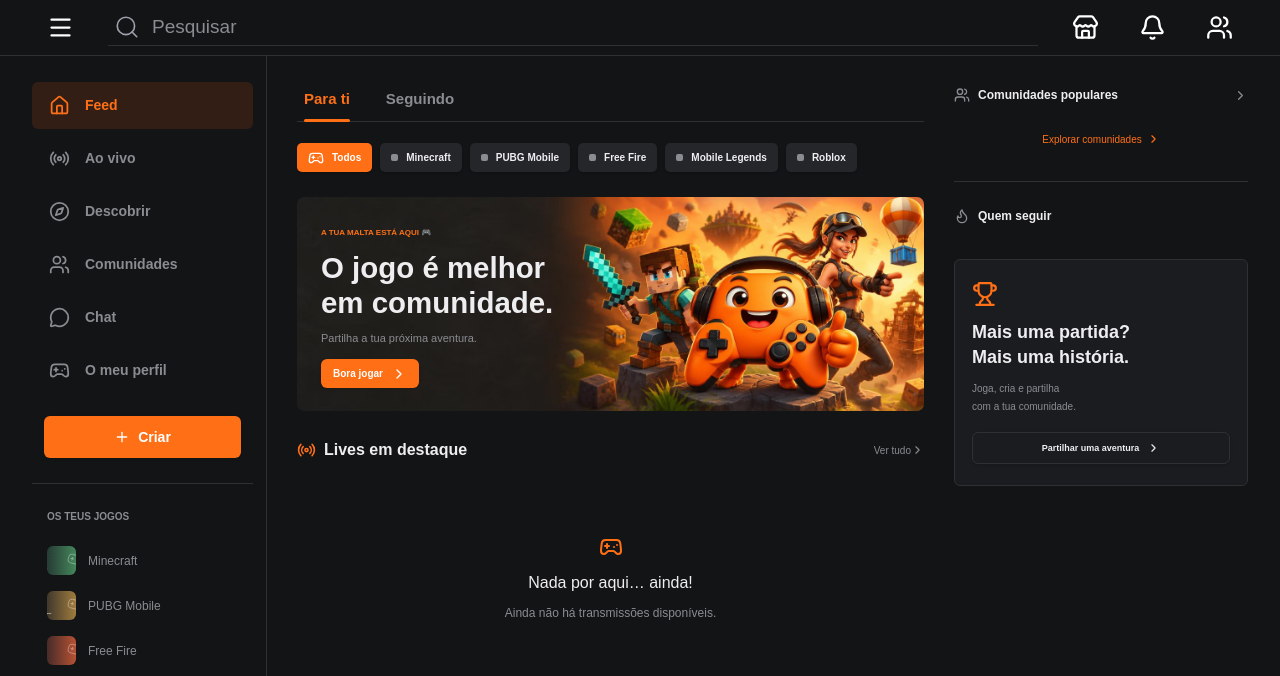
offers logout in the hamburger menu and returns to login
Click the button named "Abrir menu" at (60, 28), box left=38, top=6, right=82, bottom=50
(page scrolled)
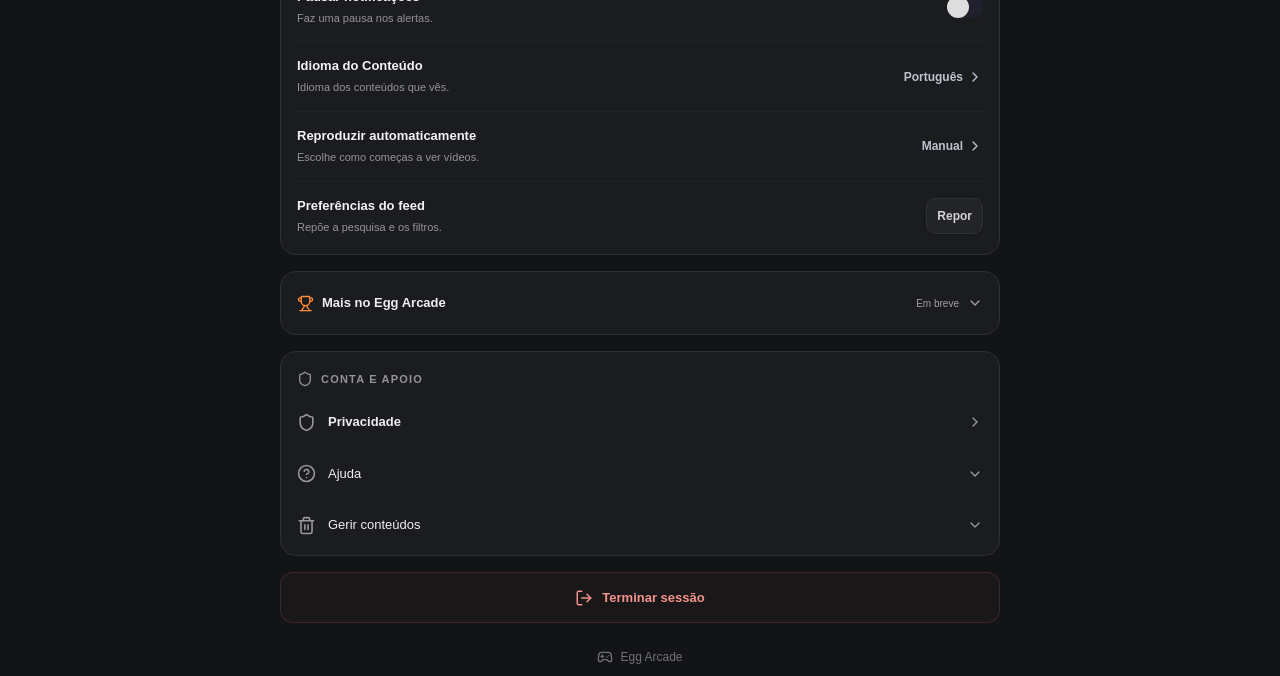
Click the button "Terminar sessão" at (640, 598), box left=280, top=572, right=1000, bottom=623
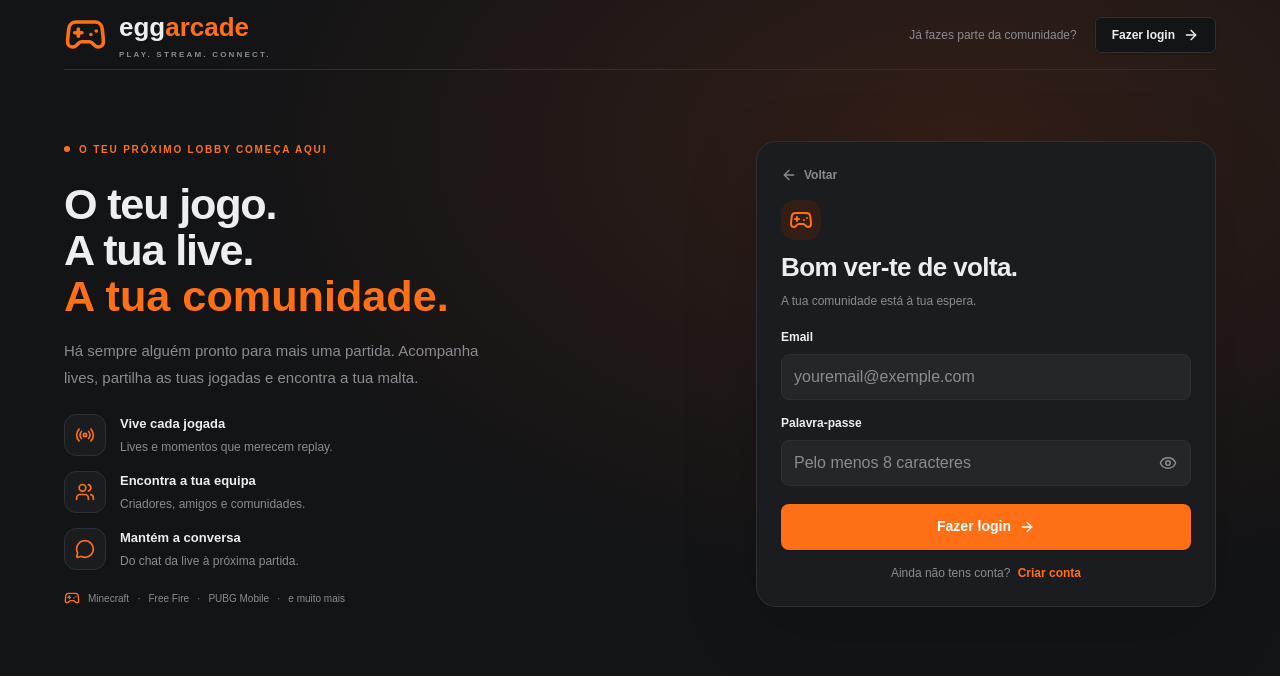
Result: the heading "Bom ver-te de volta." is shown at left=781, top=252, right=1018, bottom=282
